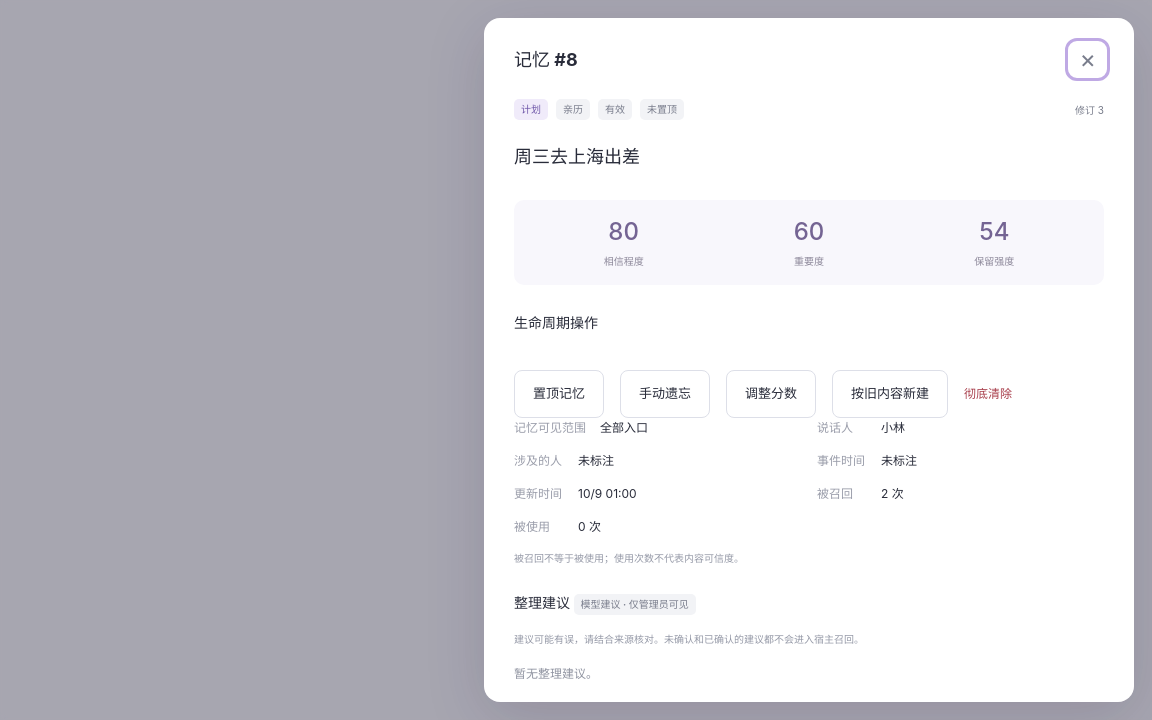
无效分数  不发送请求
Expected: the text "周三去上海出差" is shown, [514, 146, 640, 167]
Click the button "调整分数".
click(771, 394)  # box [726, 370, 816, 418]
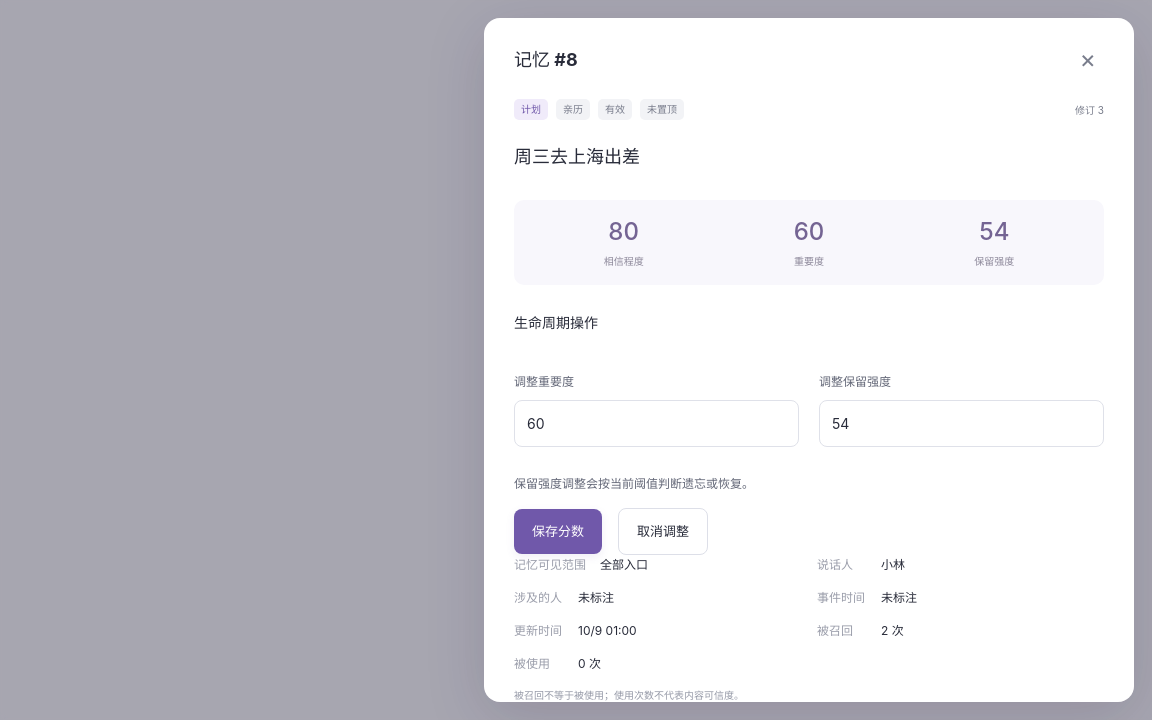
Clear the number field labelled "调整重要度" at (656, 424), box [514, 400, 799, 447]
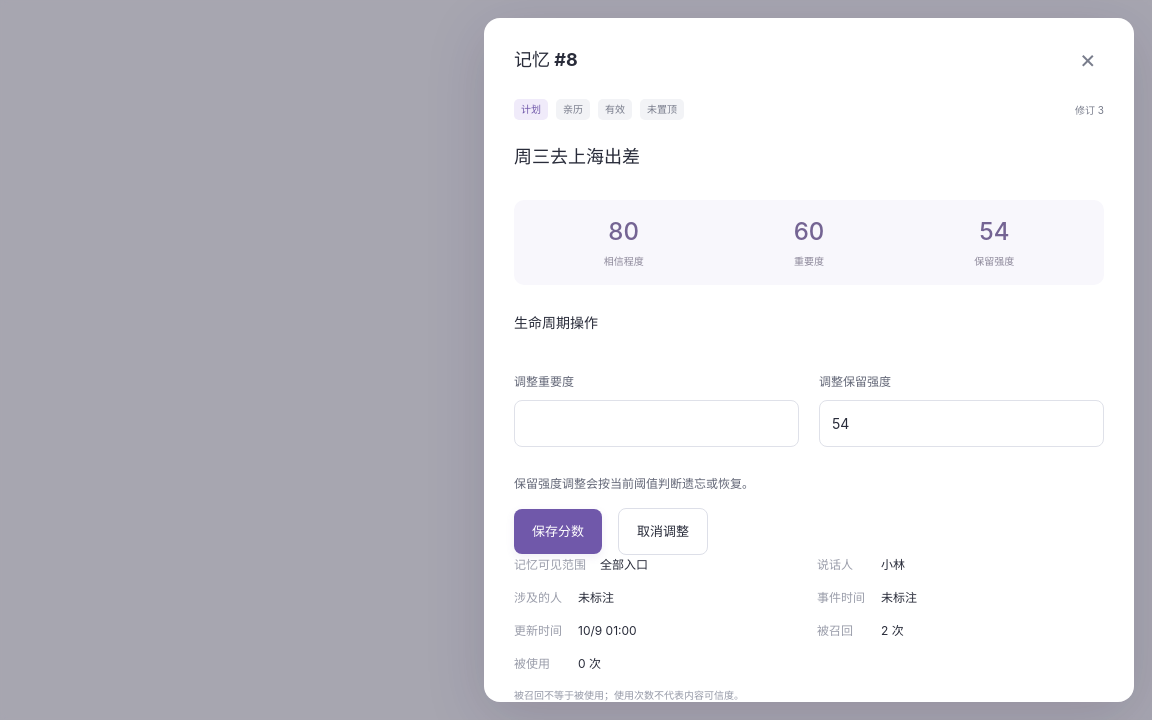
Click the button "保存分数".
click(558, 532)  # box [514, 509, 602, 554]
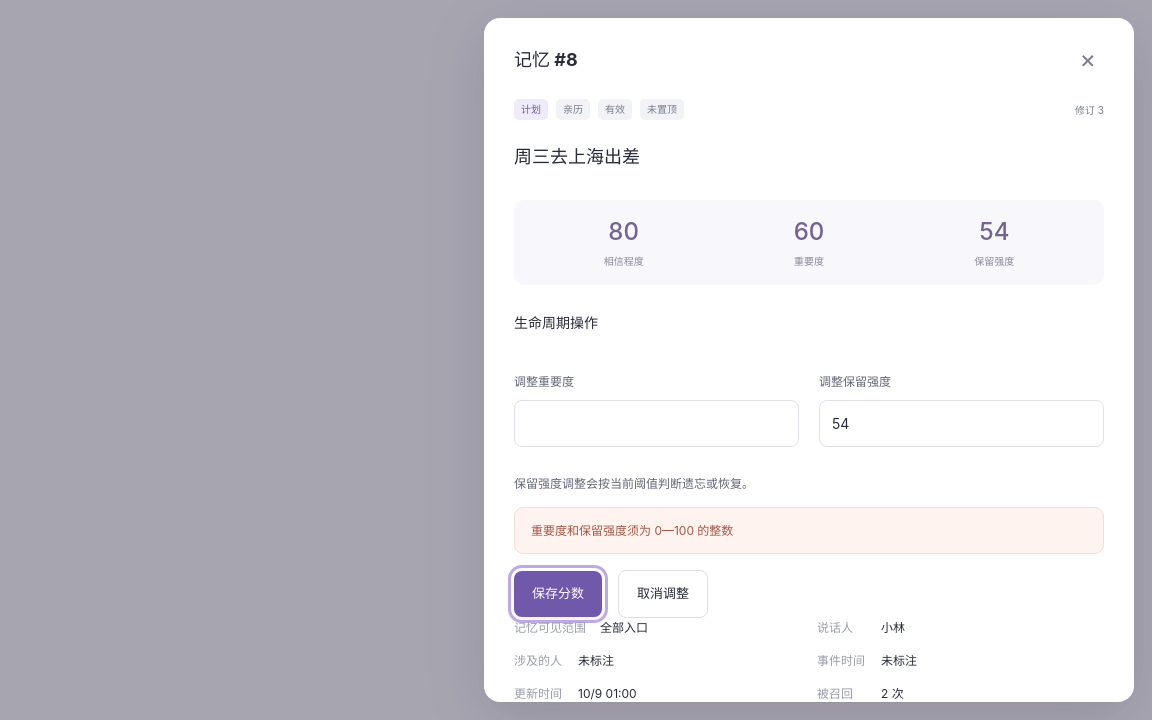
Now the message shows "0—100 的整数", box [531, 523, 733, 538]
